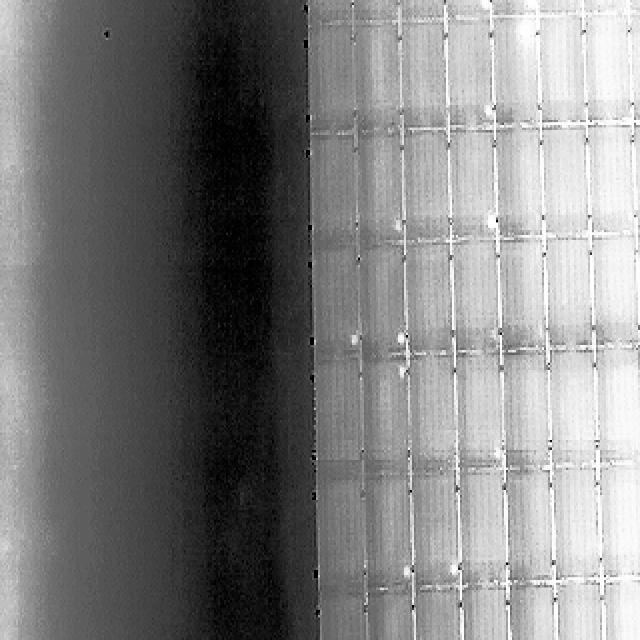Hotspots: (520, 21, 532, 41), (487, 212, 498, 230), (484, 103, 494, 121), (396, 331, 406, 347), (493, 447, 503, 463), (478, 0, 492, 11), (402, 564, 412, 578), (448, 562, 458, 576), (398, 365, 407, 380), (350, 334, 360, 347), (523, 0, 538, 8), (396, 218, 404, 232)
PV-modules: (406, 356, 455, 476), (317, 480, 366, 598), (410, 474, 460, 589), (459, 470, 508, 587), (456, 352, 505, 466), (355, 246, 404, 360), (548, 349, 597, 463), (352, 25, 402, 136), (404, 242, 453, 355), (360, 475, 408, 590), (551, 474, 601, 584), (401, 134, 450, 246), (352, 136, 401, 248), (504, 470, 552, 584), (400, 24, 450, 133), (540, 125, 588, 238), (359, 361, 407, 474), (453, 242, 502, 352), (490, 19, 539, 129), (497, 240, 545, 352), (313, 248, 361, 360), (315, 361, 363, 473), (588, 125, 636, 236), (493, 125, 540, 238), (501, 349, 548, 462), (444, 22, 492, 132), (537, 18, 585, 128), (585, 17, 633, 126), (309, 26, 356, 137), (589, 238, 636, 348), (545, 240, 592, 350), (451, 129, 498, 239), (312, 139, 358, 251), (596, 345, 640, 460), (598, 465, 640, 577), (554, 582, 604, 640), (508, 585, 558, 640), (412, 587, 462, 640), (460, 587, 510, 640), (364, 590, 414, 640), (318, 590, 366, 640), (602, 580, 640, 640), (628, 12, 640, 122), (308, 0, 356, 26), (351, 1, 400, 25), (399, 1, 447, 24), (630, 122, 640, 232), (442, 0, 490, 22), (534, 0, 584, 18), (490, 0, 535, 19), (585, 0, 632, 16), (634, 235, 640, 345), (624, 0, 640, 12)
